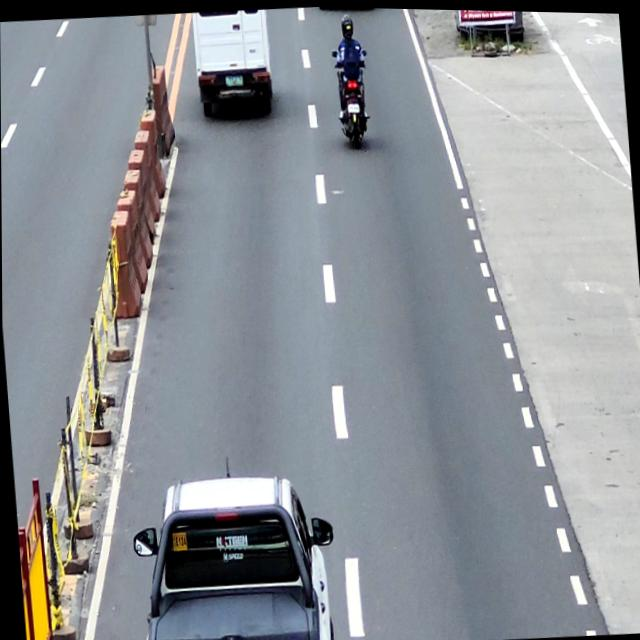Car: (128, 466, 340, 640), (191, 6, 275, 120)
License-Plate: (224, 72, 243, 87), (346, 100, 359, 112)
Motorcycle: (331, 46, 373, 150)
